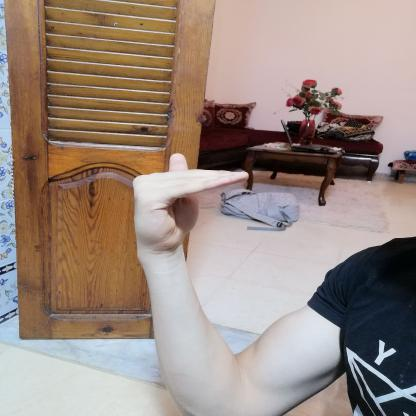KHAA: (120, 148, 258, 258)
